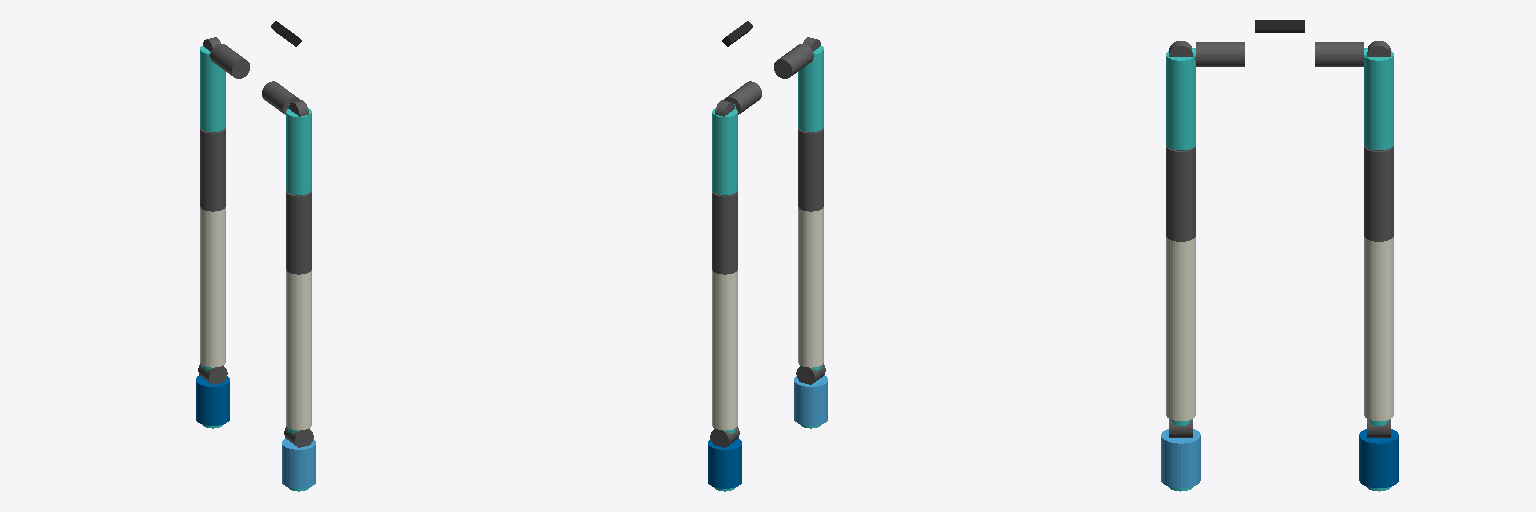
--- Render facts (derived) ---
The picture shows the robot from 3 angles, left to right: view 1: azimuth 30°, elevation 25°; view 2: azimuth 150°, elevation 25°; view 3: azimuth 270°, elevation 25°; orthographic projection.
Robot: buff_digit — 47 links, 46 joints (12 revolute, 1 continuous, 33 fixed); root link base_link; default pose: every joint at zero.
Links seen in each view (by area): view 1: left_link4, right_link4, right_link2, left_link3, right_link3, left_link2, left_gripper_base, right_gripper_base, left_attach, right_attach; view 2: right_link4, left_link4, left_link2, left_link3, right_link3, right_link2, right_gripper_base, left_gripper_base, right_attach, left_attach; view 3: left_link4, right_link4, left_link2, right_link2, left_link3, right_link3, left_gripper_base, right_gripper_base, left_attach, right_attach, torso_camera_link.
Link boxes in pixels (x1,y1,x2,y2): left_link4: [200, 207, 225, 367]; right_link4: [286, 270, 311, 430]; right_link2: [286, 108, 311, 194]; left_link3: [200, 128, 225, 211]; right_link3: [286, 191, 311, 274]; left_link2: [200, 46, 225, 131]; left_gripper_base: [196, 375, 229, 425]; right_gripper_base: [282, 438, 315, 488]; left_attach: [210, 44, 249, 78]; right_attach: [262, 81, 299, 114]; right_link4: [798, 207, 823, 367]; left_link4: [712, 270, 737, 430]; left_link2: [712, 108, 737, 194]; left_link3: [712, 191, 737, 274]; right_link3: [798, 128, 823, 211]; right_link2: [798, 46, 823, 131]; right_gripper_base: [794, 375, 827, 425]; left_gripper_base: [708, 438, 741, 488]; right_attach: [774, 44, 813, 78]; left_attach: [724, 81, 761, 114]; left_link4: [1364, 237, 1393, 420]; right_link4: [1166, 237, 1195, 420]; left_link2: [1364, 51, 1393, 149]; right_link2: [1166, 51, 1195, 149]; left_link3: [1364, 146, 1393, 241]; right_link3: [1166, 146, 1195, 241]; left_gripper_base: [1359, 429, 1398, 487]; right_gripper_base: [1161, 429, 1200, 487]; left_attach: [1315, 42, 1363, 66]; right_attach: [1196, 42, 1244, 66]; torso_camera_link: [1255, 20, 1304, 32].
Bounding box of the posed robot: 0.1351 × 0.48 × 1.08 m (x, y, z).
Meshes: 9 distinct files referenced, 0 mesh visuals loaded (none loaded); not drawn: 17 (reference not matched to a file when rendering), 3 (reference in a form the renderer does not follow; not among the files counted above).

URDF robot description (buff_digit):
<robot name="buff_digit" >

  <material name="black">
    <color rgba="0.2 0.2 0.2 1.0"/>
  </material>
  <material name="blue">
    <color rgba="1.0 1.0 1.0 1.0"/>
  </material>
  <material name="green">
    <color rgba="1.0 1.0 1.0 1.0"/>
  </material>
  <material name="grey">
    <color rgba="0.4 0.4 0.4 1.0"/>
  </material>
  <material name="silver">
    <color rgba="0.913725490196 0.913725490196 0.847058823529 1.0"/>
  </material>
  <material name="orange">
    <color rgba="1.0 1.0 1.0 1.0"/>
  </material>
  <material name="brown">
    <color rgba="0.870588235294 0.811764705882 0.764705882353 1.0"/>
  </material>
  <material name="red">
    <color rgba="1.0 1.0 1.0 1.0"/>
  </material>
  <material name="white">
    <color rgba="1.0 1.0 1.0 1.0"/>
  </material>
  <material name="scarlet">
    <color rgba="0.28 0.82 0.8 1"/>
  </material>




<link name="torso">
    <inertial>
      <origin rpy="0 0 0" xyz="0.001637 0.0002 0.259547"/>
      <mass value="0.028392"/>
      <inertia ixx="0.376284" ixy="-8.8e-05" ixz="0.008378" iyy="0.342655" iyz="6.7e-05" izz="0.100648"/>
    </inertial>
    <visual>
      <origin rpy="0 0 0" xyz="0 0 0"/>
      <geometry>
        <mesh filename="stl/torso.stl"/>
      </geometry>
      <material name="scarlet"/> 
    </visual>
    <collision>
      <origin rpy="0 0 0" xyz="0 0 0"/>
      <geometry>
        <mesh filename="stl/torso.stl"/>
      </geometry>
    </collision>
  </link>


 
  <!-- LEGS -->
  <link name="left_hip_roll">
    <inertial>
      <origin rpy="0 0 0" xyz="-0.001967 0.000244 0.031435"/>
      <mass value="0.915088"/>
      <inertia ixx="0.001017" ixy="-3e-06" ixz="1.3e-05" iyy="0.001148" iyz="-4e-06" izz="0.000766"/>
    </inertial>
    <visual>
      <origin rpy="0 0 0" xyz="0 0 0"/>
      <geometry>
        <mesh filename="stl/hip-yaw-housing.stl"/>
      </geometry>
      <material name="grey">
        <color rgba="0.35 0.35 0.35 1"/>
      </material>
    </visual>
    <collision>
      <origin rpy="0 0 0" xyz="0 0 0"/>
      <geometry>
        <mesh filename="stl/hip-yaw-housing.stl"/>
      </geometry>
    </collision>
  </link>
  <link name="left_hip_yaw">
    <inertial>
      <origin rpy="0 0 0" xyz="1e-05 -0.001945 0.042033"/>
      <mass value="0.818753"/>
      <inertia ixx="0.001627" ixy="-1e-06" ixz="2e-06" iyy="0.001929" iyz="5.3e-05" izz="0.00077"/>
    </inertial>
    <visual>
      <origin rpy="0 0 0" xyz="0 0 0"/>
      <geometry>
        <mesh filename="stl/hip-pitch-housing.stl"/>
      </geometry>
      <material name="light_grey">
        <color rgba="0.75 0.75 0.75 1"/>
      </material>
    </visual>
     <collision>
      <origin rpy="0 0 0" xyz="0 0 0"/>
      <geometry>
        <mesh filename="stl/hip-pitch-housing.stl"/>
      </geometry>
    </collision>
  </link>
  <link name="left_hip_pitch">
    <inertial>
      <origin rpy="0 0 0" xyz="0.060537 0.000521 -0.038857"/>
      <mass value="6.244279"/>
      <inertia ixx="0.011533" ixy="-0.000171" ixz="0.000148" iyy="0.033345" iyz="0.000178" izz="0.033958"/>
    </inertial>
    <visual>
      <origin rpy="0 0 0" xyz="0 0 0"/>
      <geometry>
        <mesh filename="stl/hip-pitch.stl"/>
      </geometry>
      <material name="scarlet"/> 
    </visual>
    <collision>
      <origin rpy="0 0 0" xyz="0 0 0"/>
      <geometry>
        <mesh filename="stl/hip-pitch.stl"/>
      </geometry>
    </collision>
  </link>
  <link name="left_knee">
    <inertial>
      <origin rpy="0 0 0" xyz="0.045641 0.042154 0.001657"/>
      <mass value="1.227077"/>
      <inertia ixx="0.002643" ixy="-0.001832" ixz="6.6e-05" iyy="0.005098" iyz="4.5e-05" izz="0.007019"/>
    </inertial>
    <visual>
      <origin rpy="0 0 0" xyz="0 0 0"/>
      <geometry>
        <mesh filename="stl/knee.stl"/>
      </geometry>
      <material name="grey">
        <color rgba="0.35 0.35 0.35 1"/>
      </material>
    </visual>
    <collision>
      <origin rpy="0 0 0" xyz="0 0 0"/>
      <geometry>
        <mesh filename="stl/knee.stl"/>
      </geometry>
    </collision>
  </link>
  <link name="left_shin">
    <inertial>
      <origin rpy="0 0 0" xyz="0.174265 0.010265 0.00107"/>
      <mass value="0.895793"/>
      <inertia ixx="0.001128" ixy="0.001098" ixz="0.000196" iyy="0.022492" iyz="-3e-06" izz="0.022793"/>
    </inertial>
    <visual>
      <origin rpy="0 0 0" xyz="0 0 0"/>
      <geometry>
        <mesh filename="stl/shin.stl"/>
      </geometry>
      <material name="scarlet"/> 
    </visual>
    <collision>
      <origin rpy="0 0 0" xyz="0 0 0"/>
      <geometry>
        <mesh filename="stl/shin.stl"/>
      </geometry>
    </collision>
  </link>
 <link name="left_tarsus">
    <inertial>
      <origin rpy="0 0 0" xyz="0.000932 -0.029183 0.000678"/>
      <mass value="1.322865"/>
      <inertia ixx="0.000932" ixy="0.00061" ixz="0.000102" iyy="0.016409" iyz="9e-06" izz="0.016501"/>
    </inertial>
    <visual>
      <origin rpy="0 0 0" xyz="0 0 0"/>
      <geometry>
        <mesh filename="stl/tarsus.stl"/>
      </geometry>
      <material name="grey">
        <color rgba="0.35 0.35 0.35 1"/>
      </material>
    </visual>
    <collision>
      <origin rpy="0 0 0" xyz="0 0 0"/>
      <geometry>
        <!-- <mesh filename="stl/tarsus.stl"/> -->
        <box size="0.01 0.01 0.01"/>
      </geometry>
    </collision>
  </link>
  <link name="left_toe_pitch">
    <inertial>
      <origin rpy="0 0 0" xyz="-0.000141 2e-06 3e-06"/>
      <mass value="0.043881"/>
      <inertia ixx="5e-06" ixy="0" ixz="0" iyy="8e-06" iyz="0" izz="5e-06"/>
    </inertial>
    <visual>
      <origin rpy="0 0 0" xyz="0 0 0"/>
      <geometry>
        <mesh filename="stl/toe-pitch.stl"/>
      </geometry>
      <material name="light_grey">
        <color rgba="0.75 0.75 0.75 1"/>
      </material>
    </visual>
    <collision>
      <origin rpy="0 0 0" xyz="0 0 0"/>
      <geometry>
        <!-- <mesh filename="stl/toe-pitch.stl"/> -->
        <box size="0.001 0.001 0.001"/>
      </geometry>
    </collision>
  </link>
  <link name="left_toe_roll">
    <inertial>
      <origin rpy="0 0 0" xyz="9e-06 -0.028084 -0.023204"/>
      <mass value="0.531283"/>
      <inertia ixx="0.00187" ixy="0" ixz="0" iyy="0.001616" iyz="0.000566" izz="0.000843"/>
    </inertial>
    <visual>
      <origin rpy="0 0 0" xyz="0 0 0"/>
      <geometry>
        <mesh filename="stl/toe-roll.stl"/>
      </geometry>
      <material name="light_grey">
        <color rgba="0.75 0.75 0.75 1"/>
      </material>
    </visual>
    <collision>
      <origin rpy="0 0 0" xyz="0 0 0"/>
      <geometry>
        <!-- <mesh filename="stl/toe-roll.stl"/> -->
        <box size="0.01 0.01 0.01"/>
      </geometry>
    </collision>
  </link>



  <!-- left arm -->
    
 <joint name="left_attach_to_torso" type="fixed">
    <origin rpy="0 0 0" xyz="-0.001 0.12 0.4"/>
     <parent link="torso"/>
    <child link="left_attach"/>
   </joint>

<link name="left_attach">
    <inertial>
      <origin rpy="0 0 0" xyz="0 0 0"/>
       <mass value=".01"/>
       <inertia ixx="0" ixy="0" ixz="0" iyy="0" iyz="0" izz="0"/>
    </inertial>
    <visual>
      <origin rpy="1.5707  0 0" xyz="0 0 0"/>
      <geometry>
        <cylinder radius="0.025" length="0.1"/>
      </geometry>
       <material name="grey"/>
    </visual>
    <collision>
      <origin rpy="1.5707 0 0" xyz="0 0 0"/>
      <geometry>
        <cylinder radius="0.025" length="0.1"/>
      </geometry>
    </collision>
  </link>

  <joint name="left_arm_to_left_attach" type="fixed">
    <origin rpy="0 0 0" xyz="0 0 0"/>
     <parent link="left_attach"/>
    <child link="left_jlink0"/>
   </joint>

 <link name="left_jlink0">
    <inertial>
      <origin rpy="0 0 0" xyz="0 0 0"/>
       <mass value=".01"/>
       <inertia ixx="0" ixy="0" ixz="0" iyy="0" iyz="0" izz="0"/>
    </inertial>
    <visual>
      <origin rpy="1.5707  0 0" xyz="0 0 0"/>
      <geometry>
        <cylinder radius="0.025" length="0.025"/>
      </geometry>
       <material name="grey"/>
    </visual>
    <collision>
      <origin rpy="1.5707 0 0" xyz="0 0 0"/>
      <geometry>
        <cylinder radius="0.025" length="0.025"/>
      </geometry>
    </collision>
  </link>

  <link name="left_link1">
    <inertial>
      <origin rpy="0 0 0" xyz="0 0 0"/>
       <mass value=".000000001"/>
       <inertia ixx="0" ixy="0" ixz="0" iyy="0" iyz="0" izz="0"/>
    </inertial>
    <visual>
      <origin rpy="1.5707 0 0" xyz="0 0 0"/>
      <geometry>
       <cylinder radius="0.0125" length="0.08"/>
       <!-- <box size = "0.025 0.08 0.025"/> -->
      </geometry>
       <material name="scarlet"/> 
    </visual>
    <collision>
      <origin rpy="1.5707 0 0" xyz="0 0 0"/>
      <geometry>
       <cylinder radius="0.0125" length="0.08"/>
      </geometry>
    </collision>
  </link>

  <joint name="left_joint1f" type="revolute"> 
    <parent link="left_jlink0"/>
    <child link="left_link1"/>
    <origin rpy="0 0 0" xyz="0 0.04 0.0"/>  
    <axis xyz="0 1 0"/>
    <limit lower="-3.1415" upper="3.1415" effort="1.4" velocity="0.25"/>
  </joint>

  <link name="left_jlink1">
    <inertial>
      <origin rpy="0 0 0" xyz="0 0 0"/>
       <mass value=".01"/>
       <inertia ixx="0" ixy="0" ixz="0" iyy="0" iyz="0" izz="0"/>
    </inertial>
    <visual>
      <origin rpy="0 1.5707 0" xyz="0 0 0"/>
      <geometry>
        <cylinder radius="0.025" length="0.025"/>
      </geometry>
       <material name="grey"/>
    </visual>
    <collision>
      <origin rpy="0 1.5707 0" xyz="0 0 0"/>
      <geometry>
        <cylinder radius="0.025" length="0.025"/>
      </geometry>
    </collision>
</link>

  <joint name="left_joint1" type="revolute">
    <parent link="left_link1"/>
    <child link="left_jlink1"/>
    <origin rpy="0 0 0" xyz="0 0.04 0"/> 
    <axis xyz="1 0 0"/>
    <limit lower="-3.1415" upper="3.1415" effort="1.4" velocity="0.25"/>  
  </joint>

  <link name="left_link2">
    <inertial>
      <origin rpy="0 0 0" xyz="0 0 0"/>
       <mass value=".000000001"/>
       <inertia ixx="0" ixy="0" ixz="0" iyy="0" iyz="0" izz="0"/>
    </inertial>
    <visual>
      <origin rpy="0 0 0" xyz="0 0 0"/>
      <geometry>
       <cylinder radius="0.03" length="0.2"/>
      </geometry>
       <material name="scarlet"/> 
    </visual>
    <collision>
      <origin rpy="0 0 0" xyz="0 0 0"/>
      <geometry>
       <cylinder radius="0.03" length="0.2"/>
      </geometry>
    </collision>
</link>

<joint name="left_joint2f" type="fixed">
    <parent link="left_jlink1"/>
    <child link="left_link2"/>
    <origin rpy="0 0 0" xyz="0 0  -0.1"/> 
    <!-- <axis xyz="1 0 0"/>
    <limit lower="-3.1415" upper="3.1415" effort="1.4" velocity="0.25"/> -->    
</joint>

<link name="left_jlink2">
    <inertial>
      <origin rpy="0 0 0" xyz="0 0 0"/>
       <mass value=".01"/>
       <inertia ixx="0" ixy="0" ixz="0" iyy="0" iyz="0" izz="0"/>
    </inertial>
    <visual>
      <origin rpy="0 0 0" xyz="0 0 0"/>
      <geometry>
        <cylinder radius="0.025" length="0.025"/>
      </geometry>
       <material name="grey"/>
    </visual>
    <collision>
      <origin rpy="0 0 0" xyz="0 0 0"/>
      <geometry>
        <cylinder radius="0.025" length="0.025"/>
      </geometry>
    </collision>
</link>

<joint name="left_joint2" type="fixed">
    <parent link="left_link2"/>
    <child link="left_jlink2"/>
    <origin rpy="0 0 0" xyz="0 0 -0.1"/> 
    <!-- <axis xyz="0 0 1"/>
    <limit lower="-3.1415" upper="3.1415" effort="1.4" velocity="0.25"/>   -->
  </joint>

  <link name="left_link3">
    <inertial>
      <origin rpy="0 0 0" xyz="0 0 0"/>
       <mass value=".000000001"/>
       <inertia ixx="0" ixy="0" ixz="0" iyy="0" iyz="0" izz="0"/>
    </inertial>
    <visual>
      <origin rpy="0 0 0" xyz="0 0 0"/>
      <geometry>
       <cylinder radius="0.03" length="0.2"/>
      </geometry>
       <material name="grey"/> 
    </visual>
    <collision>
      <origin rpy="0 0 0" xyz="0 0 0"/>
      <geometry>
       <cylinder radius="0.03" length="0.2"/>
      </geometry>
    </collision>
</link>

<joint name="left_joint3f" type="fixed">
    <parent link="left_jlink2"/>
    <child link="left_link3"/>
    <origin rpy="0 0 0" xyz="0 0  -0.1035"/>   
</joint>

<link name="left_jlink3">
    <inertial>
      <origin rpy="0 0 0" xyz="0 0 0"/>
       <mass value=".01"/>
       <inertia ixx="0" ixy="0" ixz="0" iyy="0" iyz="0" izz="0"/>
    </inertial>
    <visual>
      <origin rpy="0 1.5707 0" xyz="0 0 0"/>
      <geometry>
        <cylinder radius="0.025" length="0.025"/>
      </geometry>
       <material name="scarlet"/>
    </visual>
    <collision>
      <origin rpy="0 1.5707 0" xyz="0 0 0"/>
      <geometry>
        <cylinder radius="0.025" length="0.025"/>
      </geometry>
    </collision>
</link>

<joint name="left_joint3" type="revolute">
    <parent link="left_link3"/>
    <child link="left_jlink3"/>
    <origin rpy="0 0 0" xyz="0 0.0 -0.1"/> 
    <axis xyz="1 0 0"/>
    <limit lower="-3.1415" upper="3.1415" effort="1.4" velocity="0.25"/>  
  </joint>

  <link name="left_link4">
    <inertial>
      <origin rpy="0 0 0" xyz="0 0 0"/>
       <mass value=".000000001"/>
       <inertia ixx="0" ixy="0" ixz="0" iyy="0" iyz="0" izz="0"/>
    </inertial>
    <visual>
      <origin rpy="0 0 0" xyz="0 0 0"/>
      <geometry>
       <cylinder radius="0.03" length="0.4"/>
      </geometry>
       <material name="silver"/> 
    </visual>
    <collision>
      <origin rpy="0 0 0" xyz="0 0 0"/>
      <geometry>
       <cylinder radius="0.03" length="0.4"/>
      </geometry>
    </collision>
</link>

<joint name="left_joint4f" type="fixed">
    <parent link="left_jlink3"/>
    <child link="left_link4"/>
    <origin rpy="0 0 0" xyz="0 0  -0.2"/>   
</joint>

<link name="left_jlink4">
    <inertial>
      <origin rpy="0 0 0" xyz="0.107996 0.000521 -0.017765"/>
      <mass value="0.550582"/>
      <inertia ixx="0.000476" ixy="-2.9e-05" ixz="0.001403" iyy="0.009564" iyz="-1.5e-05" izz="-9e-06"/>
    </inertial>
    <visual>
      <origin rpy="0 0 0 " xyz="0 0 0"/>
      <geometry>
        <cylinder radius="0.025" length="0.025"/>
      </geometry>
      <material name="scarlet"/> 
    </visual>
    <collision>
      <origin rpy="0 0 0" xyz="0 0 0"/>
      <geometry>
        <cylinder radius="0.025" length="0.025"/>
      </geometry>
    </collision>
</link>

<joint name="left_joint4" type="revolute">
    <origin rpy="0 0 0" xyz="0.0 0.0 -0.2"/>
    <parent link="left_link4"/>
    <child link="left_jlink4"/>
    <axis xyz="0 0 1"/>
    <limit effort="1.4" lower="-1.57" upper="1.57" velocity="10"/>
  </joint>

<link name="left_wrist">
    <inertial>
      <origin rpy="0 0 0" xyz="0.107996 0.000521 -0.017765"/>
      <mass value="0.550582"/>
      <inertia ixx="0.000476" ixy="-2.9e-05" ixz="0.001403" iyy="0.009564" iyz="-1.5e-05" izz="-9e-06"/>
    </inertial>
    <visual>
      <origin rpy="0 1.5707 1.5707 " xyz="0 0 0"/>
      <geometry>
        <cylinder radius="0.025" length="0.05"/>
      </geometry>
      <material name="grey"/>
    </visual>
    <collision>
      <origin rpy="0 1.5707 1.5707" xyz="0 0 0"/>
      <geometry>
        <cylinder radius="0.025" length="0.05"/>
      </geometry>
    </collision>
  </link>
  <joint name="left_wrist_joint" type="revolute">
    <origin rpy="0 1.5707 0" xyz="0.0 0.0 -0.025"/>
    <parent link="left_jlink4"/>
    <child link="left_wrist"/>
    <axis xyz="0 1 0"/>
    <limit effort="1.4" lower="-1.57" upper="1.57" velocity="10"/>
  </joint>

  <link name="left_gripper_base">
    <inertial>
      <origin rpy="0 0 0" xyz="0 0 0"/>
      <mass value="0.2"/>
      <inertia ixx="0.0001" ixy="0" ixz="0" iyy="0.0001" iyz="0" izz="0.0001"/>
    </inertial>
    <visual>
      <origin rpy="0 1.5707 0" xyz="0 0 0"/>
      <geometry>
        <!-- <mesh filename="[local-path]/garage/kfp_v2/morpheus/models/yumi_description/meshes/gripper/base.stl"/> -->
        <cylinder radius="0.04" length="0.1"/>
      </geometry>
      <material name="Light_Grey"/>
    </visual>
    <collision>
      <origin rpy="0 1.5707 0" xyz="0 0 0"/>
      <geometry>
        <!-- <mesh filename="[local-path]/garage/kfp_v2/morpheus/models/yumi_description/meshes/gripper/coarse/base.stl"/> -->
       <cylinder radius="0.04" length="0.1"/>
      </geometry>
      <material name="Light_Grey"/>
    </collision>
  </link>

  <joint name="gripper_left_wrist_joint" type="revolute">
    <origin rpy="0 0 0" xyz="0.07 0 0"/>
    <parent link="left_wrist"/>
    <child link="left_gripper_base"/>
    <axis xyz="1 0 0"/>
    <limit effort="1.4" lower="-1.57" upper="1.57" velocity="10"/>
  </joint>

  <link name="left_gripper_ee">
    <inertial>
      <origin rpy="0 0 0" xyz="0 0 0"/>
      <mass value="0.2"/>
      <inertia ixx="0.0001" ixy="0" ixz="0" iyy="0.0001" iyz="0" izz="0.0001"/>
    </inertial>
    <visual>
      <origin rpy="0 1.5707 0" xyz="0 0 0"/>
      <geometry>        
       <cylinder radius="0.025" length="0.025"/>
      </geometry>
      <material name="scarlet"/>
    </visual>
    <collision>
      <origin rpy="0 1.5707 0" xyz="0 0 0"/>
      <geometry>
       <cylinder radius="0.025" length="0.025"/>
      </geometry> 
    </collision>
  </link>
  <joint name="left_gripper_baseee_to_gripper_base" type="fixed">
    <origin rpy="0 0 0" xyz="0.05125 0.0 0"/>
    <parent link="left_gripper_base"/>
    <child link="left_gripper_ee"/>
  </joint>










<!-- right leg -->
  <link name="right_hip_roll">
    <inertial>
      <origin rpy="0 0 0" xyz="-0.001967 -0.000244 0.031435"/>
      <mass value="0.915088"/>
      <inertia ixx="0.001017" ixy="3e-06" ixz="1.3e-05" iyy="0.001148" iyz="4e-06" izz="0.000766"/>
    </inertial>
    <visual>
      <origin rpy="0 0 0" xyz="0 0 0"/>
      <geometry>
        <mesh filename="stl/hip-yaw-housing.stl" scale="1 -1 1"/>
      </geometry>
      <material name="grey">
        <color rgba="0.35 0.35 0.35 1"/>
      </material>
    </visual>
    <collision>
      <origin rpy="0 0 0" xyz="0 0 0"/>
      <geometry>
        <mesh filename="stl/hip-yaw-housing.stl" scale="1 -1 1"/>
      </geometry>
    </collision>
  </link>
  <link name="right_hip_yaw">
    <inertial>
      <origin rpy="0 0 0" xyz="1e-05 0.001945 0.042033"/>
      <mass value="0.818753"/>
      <inertia ixx="0.001627" ixy="1e-06" ixz="2e-06" iyy="0.001929" iyz="-5.3e-05" izz="0.00077"/>
    </inertial>
    <visual>
      <origin rpy="0 0 0" xyz="0 0 0"/>
      <geometry>
        <mesh filename="stl/hip-pitch-housing.stl" scale="1 -1 1"/>
      </geometry>
      <material name="light_grey">
        <color rgba="0.75 0.75 0.75 1"/>
      </material>
    </visual>
    <collision>
      <origin rpy="0 0 0" xyz="0 0 0"/>
      <geometry>
        <mesh filename="stl/hip-pitch-housing.stl" scale="1 -1 1"/>
      </geometry>
    </collision>
  </link>
  <link name="right_hip_pitch">
    <inertial>
      <origin rpy="0 0 0" xyz="0.060537 -0.000521 -0.038857"/>
      <mass value="6.244279"/>
      <inertia ixx="0.011533" ixy="0.000171" ixz="0.000148" iyy="0.033345" iyz="-0.000178" izz="0.033958"/>
    </inertial>
    <visual>
      <origin rpy="0 0 0" xyz="0 0 0"/>
      <geometry>
        <mesh filename="stl/hip-pitch.stl" scale="1 -1 1"/>
      </geometry>
      <material name="scarlet"/> 
    </visual>
    <collision>
      <origin rpy="0 0 0" xyz="0 0 0"/>
      <geometry>
        <mesh filename="stl/hip-pitch.stl" scale="1 -1 1"/>
      </geometry>
    </collision>
  </link>
  <link name="right_knee">
    <inertial>
      <origin rpy="0 0 0" xyz="0.045641 -0.042154 0.001657"/>
      <mass value="1.227077"/>
      <inertia ixx="0.002643" ixy="0.001832" ixz="6.6e-05" iyy="0.005098" iyz="-4.5e-05" izz="0.007019"/>
    </inertial>
    <visual>
      <origin rpy="0 0 0" xyz="0 0 0"/>
      <geometry>
        <mesh filename="stl/knee.stl" scale="1 -1 1"/>
      </geometry>
      <material name="grey">
        <color rgba="0.35 0.35 0.35 1"/>
      </material>
    </visual>
    <collision>
      <origin rpy="0 0 0" xyz="0 0 0"/>
      <geometry>
        <mesh filename="stl/knee.stl" scale="1 -1 1"/>
      </geometry>
    </collision>
  </link>
  <link name="right_shin">
    <inertial>
      <origin rpy="0 0 0" xyz="0.174265 -0.010265 0.00107"/>
      <mass value="0.895793"/>
      <inertia ixx="0.001128" ixy="-0.001098" ixz="0.000196" iyy="0.022492" iyz="3e-06" izz="0.022793"/>
    </inertial>
    <visual>
      <origin rpy="0 0 0" xyz="0 0 0"/>
      <geometry>
        <mesh filename="stl/shin.stl" scale="1 -1 1"/>
      </geometry>
      <material name="scarlet"/> 
    </visual>
    <collision>
      <origin rpy="0 0 0" xyz="0 0 0"/>
      <geometry>
        <mesh filename="stl/shin.stl" scale="1 -1 1"/>
      </geometry>
    </collision>
  </link>
  <link name="right_tarsus">
    <inertial>
      <origin rpy="0 0 0" xyz="0.000932 0.029183 0.000678"/>
      <mass value="1.322865"/>
      <inertia ixx="0.000932" ixy="-0.00061" ixz="0.000102" iyy="0.016409" iyz="-9e-06" izz="0.016501"/>
    </inertial>
    <visual>
      <origin rpy="0 0 0" xyz="0 0 0"/>
      <geometry>
        <mesh filename="stl/tarsus.stl" scale="1 -1 1"/>
      </geometry>
      <material name="grey">
        <color rgba="0.35 0.35 0.35 1"/>
      </material>
    </visual>
    <collision>
      <origin rpy="0 0 0" xyz="0 0 0"/>
      <geometry>
         <box size="0.01 0.01 0.01"/>
      </geometry>
    </collision>
  </link>
  <link name="right_toe_pitch">
    <inertial>
      <origin rpy="0 0 0" xyz="-0.000141 -2e-06 3e-06"/>
      <mass value="0.043881"/>
      <inertia ixx="5e-06" ixy="0" ixz="0" iyy="8e-06" iyz="0" izz="5e-06"/>
    </inertial>
    <visual>
      <origin rpy="0 0 0" xyz="0 0 0"/>
      <geometry>
        <mesh filename="stl/toe-pitch.stl" scale="1 -1 1"/>
      </geometry>
      <material name="light_grey">
        <color rgba="0.75 0.75 0.75 1"/>
      </material>
    </visual>
    <collision>
      <origin rpy="0 0 0" xyz="0 0 0"/>
      <geometry>
         <box size="0.001 0.001 0.001"/>
      </geometry>
    </collision>
  </link>
  <link name="right_toe_roll">
    <inertial>
      <origin rpy="0 0 0" xyz="9e-06 0.028084 -0.023204"/>
      <mass value="0.531283"/>
      <inertia ixx="0.00187" ixy="0" ixz="0" iyy="0.001616" iyz="-0.000566" izz="0.000843"/>
    </inertial>
    <visual>
      <origin rpy="0 0 0" xyz="0 0 0"/>
      <geometry>
        <mesh filename="stl/toe-roll.stl" scale="1 -1 1"/>
      </geometry>
      <material name="light_grey">
        <color rgba="0.75 0.75 0.75 1"/>
      </material>
    </visual>
    <collision>
      <origin rpy="0 0 0" xyz="0 0 0"/>
      <geometry>
         <box size="0.01 0.01 0.01"/>
      </geometry>
    </collision>
  </link>




  <!-- right arm -->
   <joint name="right_attach_to_torso" type="fixed">
    <origin rpy="0 0 0" xyz="-0.001 -0.12 0.4"/>
     <parent link="torso"/>
    <child link="right_attach"/>
   </joint>

   <link name="right_attach">
    <inertial>
      <origin rpy="0 0 0" xyz="0 0 0"/>
       <mass value=".01"/>
       <inertia ixx="0" ixy="0" ixz="0" iyy="0" iyz="0" izz="0"/>
    </inertial>
    <visual>
      <origin rpy="1.5707  0 0" xyz="0 0 0"/>
      <geometry>
        <cylinder radius="0.025" length="0.1"/>
      </geometry>
       <material name="grey"/>
    </visual>
    <collision>
      <origin rpy="1.5707 0 0" xyz="0 0 0"/>
      <geometry>
        <cylinder radius="0.025" length="0.1"/>
      </geometry>
    </collision>
  </link>

  <joint name="right_arm_to_right_attach" type="fixed">
    <origin rpy="0 0 0" xyz="0 0 0"/>
     <parent link="right_attach"/>
    <child link="right_jlink0"/>
   </joint>



  <link name="right_jlink0">
    <inertial>
      <origin rpy="0 0 0" xyz="0 0 0"/>
       <mass value=".01"/>
       <inertia ixx="0" ixy="0" ixz="0" iyy="0" iyz="0" izz="0"/>
    </inertial>
    <visual>
      <origin rpy="1.5707  0 0" xyz="0 0 0"/>
      <geometry>
        <cylinder radius="0.025" length="0.025"/>
      </geometry>
       <material name="grey"/>
    </visual>
    <collision>
      <origin rpy="1.5707 0 0" xyz="0 0 0"/>
      <geometry>
        <cylinder radius="0.025" length="0.025"/>
      </geometry>
    </collision>
  </link>

  <link name="right_link1">
    <inertial>
      <origin rpy="0 0 0" xyz="0 0 0"/>
       <mass value=".000000001"/>
       <inertia ixx="0" ixy="0" ixz="0" iyy="0" iyz="0" izz="0"/>
    </inertial>
    <visual>
      <origin rpy="1.5707 0 0" xyz="0 0 0"/>
      <geometry>
       <cylinder radius="0.0125" length="0.08"/>
       <!-- <box size = "0.025 0.08 0.025"/> -->
      </geometry>
       <material name="scarlet"/> 
    </visual>
    <collision>
      <origin rpy="1.5707 0 0" xyz="0 0 0"/>
      <geometry>
       <cylinder radius="0.0125" length="0.08"/>
      </geometry>
    </collision>
  </link>

  <joint name="right_joint1f" type="revolute"> 
    <parent link="right_jlink0"/>
    <child link="right_link1"/>
    <origin rpy="0 0 0" xyz="0 -0.04 0.0"/>  
    <axis xyz="0 1 0"/>
    <limit lower="-3.1415" upper="3.1415" effort="1.4" velocity="0.25"/>
  </joint>

  <link name="right_jlink1">
    <inertial>
      <origin rpy="0 0 0" xyz="0 0 0"/>
       <mass value=".01"/>
       <inertia ixx="0" ixy="0" ixz="0" iyy="0" iyz="0" izz="0"/>
    </inertial>
    <visual>
      <origin rpy="0 1.5707 0" xyz="0 0 0"/>
      <geometry>
        <cylinder radius="0.025" length="0.025"/>
      </geometry>
       <material name="grey"/>
    </visual>
    <collision>
      <origin rpy="0 1.5707 0" xyz="0 0 0"/>
      <geometry>
        <cylinder radius="0.025" length="0.025"/>
      </geometry>
    </collision>
</link>

  <joint name="right_joint1" type="revolute">
    <parent link="right_link1"/>
    <child link="right_jlink1"/>
    <origin rpy="0 0 0" xyz="0 -0.04 0"/> 
    <axis xyz="1 0 0"/>
    <limit lower="-3.1415" upper="3.1415" effort="1.4" velocity="0.25"/>  
  </joint>

  <link name="right_link2">
    <inertial>
      <origin rpy="0 0 0" xyz="0 0 0"/>
       <mass value=".000000001"/>
       <inertia ixx="0" ixy="0" ixz="0" iyy="0" iyz="0" izz="0"/>
    </inertial>
    <visual>
      <origin rpy="0 0 0" xyz="0 0 0"/>
      <geometry>
       <cylinder radius="0.03" length="0.2"/>
      </geometry>
       <material name="scarlet"/> 
    </visual>
    <collision>
      <origin rpy="0 0 0" xyz="0 0 0"/>
      <geometry>
       <cylinder radius="0.03" length="0.2"/>
      </geometry>
    </collision>
</link>

<joint name="right_joint2f" type="fixed">
    <parent link="right_jlink1"/>
    <child link="right_link2"/>
    <origin rpy="0 0 0" xyz="0 0  -0.1"/>      
</joint>

<link name="right_jlink2">
    <inertial>
      <origin rpy="0 0 0" xyz="0 0 0"/>
       <mass value=".01"/>
       <inertia ixx="0" ixy="0" ixz="0" iyy="0" iyz="0" izz="0"/>
    </inertial>
    <visual>
      <origin rpy="0 0 0" xyz="0 0 0"/>
      <geometry>
        <cylinder radius="0.025" length="0.025"/>
      </geometry>
       <material name="grey"/>
    </visual>
    <collision>
      <origin rpy="0 0 0" xyz="0 0 0"/>
      <geometry>
        <cylinder radius="0.025" length="0.025"/>
      </geometry>
    </collision>
</link>

<joint name="right_joint2" type="fixed">
    <parent link="right_link2"/>
    <child link="right_jlink2"/>
    <origin rpy="0 0 0" xyz="0 0 -0.1"/>  
  </joint>

  <link name="right_link3">
    <inertial>
      <origin rpy="0 0 0" xyz="0 0 0"/>
       <mass value=".000000001"/>
       <inertia ixx="0" ixy="0" ixz="0" iyy="0" iyz="0" izz="0"/>
    </inertial>
    <visual>
      <origin rpy="0 0 0" xyz="0 0 0"/>
      <geometry>
       <cylinder radius="0.03" length="0.2"/>
      </geometry>
       <material name="grey"/> 
    </visual>
    <collision>
      <origin rpy="0 0 0" xyz="0 0 0"/>
      <geometry>
       <cylinder radius="0.03" length="0.2"/>
      </geometry>
    </collision>
</link>

<joint name="right_joint3f" type="fixed">
    <parent link="right_jlink2"/>
    <child link="right_link3"/>
    <origin rpy="0 0 0" xyz="0 0  -0.1035"/>   
</joint>

<link name="right_jlink3">
    <inertial>
      <origin rpy="0 0 0" xyz="0 0 0"/>
       <mass value=".01"/>
       <inertia ixx="0" ixy="0" ixz="0" iyy="0" iyz="0" izz="0"/>
    </inertial>
    <visual>
      <origin rpy="0 1.5707 0" xyz="0 0 0"/>
      <geometry>
        <cylinder radius="0.025" length="0.025"/>
      </geometry>
       <material name="scarlet"/>
    </visual>
    <collision>
      <origin rpy="0 1.5707 0" xyz="0 0 0"/>
      <geometry>
        <cylinder radius="0.025" length="0.025"/>
      </geometry>
    </collision>
</link>

<joint name="right_joint3" type="revolute">
    <parent link="right_link3"/>
    <child link="right_jlink3"/>
    <origin rpy="0 0 0" xyz="0 0.0 -0.1"/> 
    <axis xyz="1 0 0"/>
    <limit lower="-3.1415" upper="3.1415" effort="1.4" velocity="0.25"/>  
  </joint>

  <link name="right_link4">
    <inertial>
      <origin rpy="0 0 0" xyz="0 0 0"/>
       <mass value=".000000001"/>
       <inertia ixx="0" ixy="0" ixz="0" iyy="0" iyz="0" izz="0"/>
    </inertial>
    <visual>
      <origin rpy="0 0 0" xyz="0 0 0"/>
      <geometry>
       <cylinder radius="0.03" length="0.4"/>
      </geometry>
       <material name="silver"/> 
    </visual>
    <collision>
      <origin rpy="0 0 0" xyz="0 0 0"/>
      <geometry>
       <cylinder radius="0.03" length="0.4"/>
      </geometry>
    </collision>
</link>

<joint name="right_joint4f" type="fixed">
    <parent link="right_jlink3"/>
    <child link="right_link4"/>
    <origin rpy="0 0 0" xyz="0 0  -0.2"/>   
</joint>

<link name="right_jlink4">
    <inertial>
      <origin rpy="0 0 0" xyz="0.107996 0.000521 -0.017765"/>
      <mass value="0.550582"/>
      <inertia ixx="0.000476" ixy="-2.9e-05" ixz="0.001403" iyy="0.009564" iyz="-1.5e-05" izz="-9e-06"/>
    </inertial>
    <visual>
      <origin rpy="0 0 0 " xyz="0 0 0"/>
      <geometry>
        <cylinder radius="0.025" length="0.025"/>
      </geometry>
      <material name="scarlet"/> 
    </visual>
    <collision>
      <origin rpy="0 0 0" xyz="0 0 0"/>
      <geometry>
        <cylinder radius="0.025" length="0.025"/>
      </geometry>
    </collision>
</link>

<joint name="right_joint4" type="revolute">
    <origin rpy="0 0 0" xyz="0.0 0.0 -0.2"/>
    <parent link="right_link4"/>
    <child link="right_jlink4"/>
    <axis xyz="0 0 1"/>
    <limit effort="1.4" lower="-1.57" upper="1.57" velocity="10"/>
  </joint>

<link name="right_wrist">
    <inertial>
      <origin rpy="0 0 0" xyz="0.107996 0.000521 -0.017765"/>
      <mass value="0.550582"/>
      <inertia ixx="0.000476" ixy="-2.9e-05" ixz="0.001403" iyy="0.009564" iyz="-1.5e-05" izz="-9e-06"/>
    </inertial>
    <visual>
      <origin rpy="0 1.5707 1.5707 " xyz="0 0 0"/>
      <geometry>
        <cylinder radius="0.025" length="0.05"/>
      </geometry>
      <material name="grey"/>
    </visual>
    <collision>
      <origin rpy="0 1.5707 1.5707" xyz="0 0 0"/>
      <geometry>
        <cylinder radius="0.025" length="0.05"/>
      </geometry>
    </collision>
  </link>
  <joint name="right_wrist_joint" type="revolute">
    <origin rpy="0 1.5707 0" xyz="0.0 0.0 -0.025"/>
    <parent link="right_jlink4"/>
    <child link="right_wrist"/>
    <axis xyz="0 1 0"/>
    <limit effort="1.4" lower="-1.57" upper="1.57" velocity="10"/>
  </joint>

  <link name="right_gripper_base">
    <inertial>
      <origin rpy="0 0 0" xyz="0 0 0"/>
      <mass value="0.2"/>
      <inertia ixx="0.0001" ixy="0" ixz="0" iyy="0.0001" iyz="0" izz="0.0001"/>
    </inertial>
    <visual>
      <origin rpy="0 1.5707 0" xyz="0 0 0"/>
      <geometry>
        <!-- <mesh filename="[local-path]/garage/kfp_v2/morpheus/models/yumi_description/meshes/gripper/base.stl"/> -->
        <cylinder radius="0.04" length="0.1"/>
      </geometry>
      <material name="Light_Grey"/>
    </visual>
    <collision>
      <origin rpy="0 1.5707 0" xyz="0 0 0"/>
      <geometry>
        <!-- <mesh filename="[local-path]/garage/kfp_v2/morpheus/models/yumi_description/meshes/gripper/coarse/base.stl"/> -->
       <cylinder radius="0.04" length="0.1"/>
      </geometry>
      <material name="Light_Grey"/>
    </collision>
  </link>

  <joint name="gripper_right_wrist_joint" type="revolute">
    <origin rpy="0 0 0" xyz="0.07 0 0"/>
    <parent link="right_wrist"/>
    <child link="right_gripper_base"/>
    <axis xyz="1 0 0"/>
    <limit effort="1.4" lower="-1.57" upper="1.57" velocity="10"/>
  </joint>

  <link name="right_gripper_ee">
    <inertial>
      <origin rpy="0 0 0" xyz="0 0 0"/>
      <mass value="0.2"/>
      <inertia ixx="0.0001" ixy="0" ixz="0" iyy="0.0001" iyz="0" izz="0.0001"/>
    </inertial>
    <visual>
      <origin rpy="0 1.5707 0" xyz="0 0 0"/>
      <geometry>        
       <cylinder radius="0.025" length="0.025"/>
      </geometry>
      <material name="scarlet"/>
    </visual>
    <collision>
      <origin rpy="0 1.5707 0" xyz="0 0 0"/>
      <geometry>
       <cylinder radius="0.025" length="0.025"/>
      </geometry> 
    </collision>
  </link>
  <joint name="right_gripper_baseee_to_gripper_base" type="fixed">
    <origin rpy="0 0 0" xyz="0.05125 0.0 0"/>
    <parent link="right_gripper_base"/>
    <child link="right_gripper_ee"/>
  </joint>









  
    
  <joint name="hip_abduction_left" type="fixed">
    <origin rpy="1.57079632679 -1.57079632679 -1.57079632679" xyz="-0.001 0.091 0"/>
    <axis xyz="0 0 1"/>
    <parent link="torso"/>
    <child link="left_hip_roll"/>
    <limit effort="1.4" lower="-1.0472" upper="1.0472" velocity="12.15"/>
  </joint>
  <joint name="hip_rotation_left" type="fixed">
    <origin rpy="0 -1.57079632679 0" xyz="-0.0505 0 0.044"/>
    <axis xyz="0 0 1"/>
    <parent link="left_hip_roll"/>
    <child link="left_hip_yaw"/>
    <limit effort="1.4" lower="-0.698132" upper="0.698132" velocity="12.15"/>
  </joint>
  <joint name="hip_flexion_left" type="fixed">
    <origin rpy="-1.57079632679 -0.785398163397 3.14159265359" xyz="0 0.004 0.068"/>
    <axis xyz="0 0 -1"/>
    <parent link="left_hip_yaw"/>
    <child link="left_hip_pitch"/>
    <limit effort="12.5" lower="-1.0472" upper="1.57079632679" velocity="8.5"/>
  </joint>
  <joint name="knee_joint_left" type="fixed">
    <origin rpy="0 0 -1.17079632679" xyz="0.12 0 0.0045"/>
    <axis xyz="0 0 1"/>
    <parent link="left_hip_pitch"/>
    <child link="left_knee"/>
    <limit effort="12.5" lower="-1.2392" upper="0.8727" velocity="8.5085"/>
  </joint>
  <joint name="knee_to_shin_left" type="fixed">
    <origin rpy="0 0 0" xyz="0.060677 0.047406 0"/>
    <axis xyz="0 0 1"/>
    <parent link="left_knee"/>
    <child link="left_shin"/>
    <limit effort="0" lower="-0.35" upper="0.35" velocity="10"/>
  </joint>
  <joint name="shin_to_tarsus_left" type="fixed">
    <origin rpy="0 0 1.7976891" xyz="0.434759 0.02 0"/>
    <axis xyz="0 0 1"/>
    <parent link="left_shin"/>
    <child link="left_tarsus"/>
    <limit effort="0" lower="-0.8779" upper="1.2497" velocity="20"/>
  </joint>
  <joint name="toe_pitch_joint_left" type="fixed">
    <origin rpy="0 0 0.7" xyz="0.408 -0.04 0"/>
    <axis xyz="0 0 1"/>
    <parent link="left_tarsus"/>
    <child link="left_toe_pitch"/>
    <limit effort="0.9" lower="-0.785398163397" upper="0.785398163397" velocity="11.5"/>
  </joint>
  <joint name="toe_roll_joint_left" type="fixed">
    <origin rpy="0 1.57079632679 0" xyz="0 0 0"/>
    <axis xyz="0 0 1"/>
    <parent link="left_toe_pitch"/>
    <child link="left_toe_roll"/>
    <limit effort="0.9" lower="-0.6109" upper="0.6109" velocity="11.5"/>
  </joint>
  

  <joint name="hip_abduction_right" type="fixed">
    <origin rpy="-1.57079632679 -1.57079632679 1.57079632679" xyz="-0.001 -0.091 0"/>
    <axis xyz="0 0 1"/>
    <parent link="torso"/>
    <child link="right_hip_roll"/>
    <limit effort="1.4" lower="-1.0472" upper="1.0472" velocity="12.15"/>
  </joint>
  <joint name="hip_rotation_right" type="fixed">
    <origin rpy="0 -1.57079632679 0" xyz="-0.0505 0 0.044"/>
    <axis xyz="0 0 1"/>
    <parent link="right_hip_roll"/>
    <child link="right_hip_yaw"/>
    <limit effort="1.4" lower="-0.698132" upper="0.698132" velocity="12.15"/>
  </joint>
  <joint name="hip_flexion_right" type="fixed">
    <origin rpy="1.57079632679 -0.785398163397 -3.14159265359" xyz="0 -0.004 0.068"/>
    <axis xyz="0 0 -1"/>
    <parent link="right_hip_yaw"/>
    <child link="right_hip_pitch"/>
    <limit effort="12.5" lower="-1.57079632679" upper="1.0472" velocity="8.5"/>
  </joint>
  <joint name="knee_joint_right" type="fixed">
    <origin rpy="0 0 1.17079632679" xyz="0.12 0 0.0045"/>
    <axis xyz="0 0 1"/>
    <parent link="right_hip_pitch"/>
    <child link="right_knee"/>
    <limit effort="12.5" lower="-0.8727" upper="1.2392" velocity="8.5085"/>
  </joint>
  <joint name="knee_to_shin_right" type="fixed">
    <origin rpy="0 0 0" xyz="0.060677 -0.047406 0"/>
    <axis xyz="0 0 1"/>
    <parent link="right_knee"/>
    <child link="right_shin"/>
    <limit effort="0" lower="-0.35" upper="0.35" velocity="10"/>
  </joint>
  <joint name="shin_to_tarsus_right" type="fixed">
    <origin rpy="0 0 -1.7976891" xyz="0.434759 -0.02 0"/>
    <axis xyz="0 0 1"/>
    <parent link="right_shin"/>
    <child link="right_tarsus"/>
    <limit effort="0" lower="-1.2497" upper="0.8779" velocity="20"/>
  </joint>
  <joint name="toe_pitch_joint_right" type="fixed">
    <origin rpy="0 0 -0.7" xyz="0.408 0.04 0"/>
    <axis xyz="0 0 1"/>
    <parent link="right_tarsus"/>
    <child link="right_toe_pitch"/>
    <limit effort="0.9" lower="-0.785398163397" upper="0.785398163397" velocity="11.5"/>
  </joint>
  <joint name="toe_roll_joint_right" type="fixed">
    <origin rpy="0 1.57079632679 0" xyz="0 0 0"/>
    <axis xyz="0 0 1"/>
    <parent link="right_toe_pitch"/>
    <child link="right_toe_roll"/>
    <limit effort="0.9" lower="-0.6109" upper="0.6109" velocity="11.5"/>
  </joint>

   

<!-- joint to freight base -->
<joint name="digit_to_freight" type="fixed">
    <origin rpy="0 0 0" xyz="0 0  0.9"/>
    <parent link="base_link"/>
    <child link="torso"/>
</joint>

 

<link name="base_link">
    <inertial>
      <origin rpy="0 0 0" xyz="0 0 0"/>
      <mass value="15.028392"/>
      <inertia ixx="0.0045" ixy="0" ixz="0" iyy="0.005" iyz="0" izz="0.0045" />
    </inertial>
    <visual>
      <origin rpy="1.57 0 1.57" xyz="0.33 -0.25 0.0"/>
      <geometry>
        <mesh filename="[local-path]/garage/kfp_v2/digit/models/hoverboard/meshes/base.obj" scale="0.025 0.025 0.025"/> 
      </geometry>
      <material name="scarlet"/> 
    </visual>
    <collision>
      <origin rpy="1.57  0 1.57 " xyz="0 0 0"/>
      <geometry>
        <!-- <mesh filename="meshes/base.obj" scale="0.05 0.05 0.05"/> -->
        <box size="0.5 0.15 0.5"/>
      </geometry>
    </collision>
</link>

<link name="right_wheel">
    <inertial>
      <origin rpy="0 0 0" xyz="0 0 0"/>
      <mass value="4.028392"/>
      <inertia ixx="0.0045" ixy="0" ixz="0" iyy="0.005" iyz="0" izz="0.0045" />
    </inertial>
    <visual>
      <origin rpy="1.57 0 1.57" xyz="-0.33 0.255 0.0"/>
      <geometry>
        <mesh filename="[local-path]/garage/kfp_v2/digit/models/hoverboard/meshes/wheel.stl" scale="0.025 0.025 0.025"/>
       </geometry>
      <material name="black">
        <color rgba="0.2 0.2 0.2 1"/>
      </material>
    </visual>
    <collision>
      <origin rpy="1.57  0 1.57 " xyz="0 0 0"/>
      <geometry>
        <box size="0.005 0.005 0.005"/>

       </geometry>
    </collision>
</link>

<joint name="wheelr_to_base" type="continuous">
  <origin rpy="0 0 3.14159265359" xyz="0 0 0"/>
    <axis xyz="0 1 0"/>
    <parent link="base_link"/>
    <child link="right_wheel"/>
    <limit effort="8.85" velocity="34.8" />
</joint>

<link name="left_wheel">
    <inertial>
      <origin rpy="0 0 0" xyz="0 0 0"/>
      <mass value="4.028392"/>
      <inertia ixx="0.0045" ixy="0" ixz="0" iyy="0.005" iyz="0" izz="0.0045" />
    </inertial>
    <visual>
      <origin rpy="1.57 0 1.57" xyz="0.33 -0.74 0.01"/>
      <geometry>
        <mesh filename="[local-path]/garage/kfp_v2/digit/models/hoverboard/meshes/wheel.stl" scale="0.025 0.025 0.025"/>
       </geometry>
      <material name="black">
        <color rgba="0.2 0.2 0.2 1"/>
      </material>
    </visual>
    <collision>
      <origin rpy="1.57  0 1.57 " xyz="0 0 0"/>
      <geometry>
       <box size="0.005 0.005 0.005"/>

       </geometry>
    </collision>
</link>

<joint name="wheell_to_base" type="fixed">
  <origin rpy="0 0 0" xyz="0 1.0 0"/>
    <axis xyz="0 1 0"/>
    <parent link="base_link"/>
    <child link="left_wheel"/>
    <limit effort="8.85" velocity="34.8" />
</joint>

<link name="torso_camera_link">
    <inertial>
      <origin rpy="0 0 0" xyz="-0.0306228970175641 0.0007091682908278 0.0551974119471302" />
      <mass value="0.00833634573995571" />
      <inertia ixx="1.01866461240801E-06" ixy="-5.88447626567756E-08" ixz="7.83857244757914E-08" iyy="5.10039589974707E-07" iyz="-7.12664289617235E-09" izz="1.28270671527309E-06" />
    </inertial>
    <visual>
      <origin rpy="0 0 0" xyz="0 0 0" />
      <geometry> 
       <box size="0.02 0.02 0.1"/>
      </geometry>
      <material name="black">
        <color rgba="0.2 0.2 0.2 1" />
      </material>
    </visual>
    <collision>
      <origin rpy="0 0 0" xyz="0. 0 0" />
      <geometry>
       <box size="0.02 0.02 0.1"/>
      </geometry>
    </collision>
  </link> 
  <joint name="camera_joint" type="fixed">
    <origin rpy="1.5707 0.866 0" xyz="0.08 0 0.5" />
    <parent link="torso" />
    <child link="torso_camera_link" />
  </joint> 


</robot>
